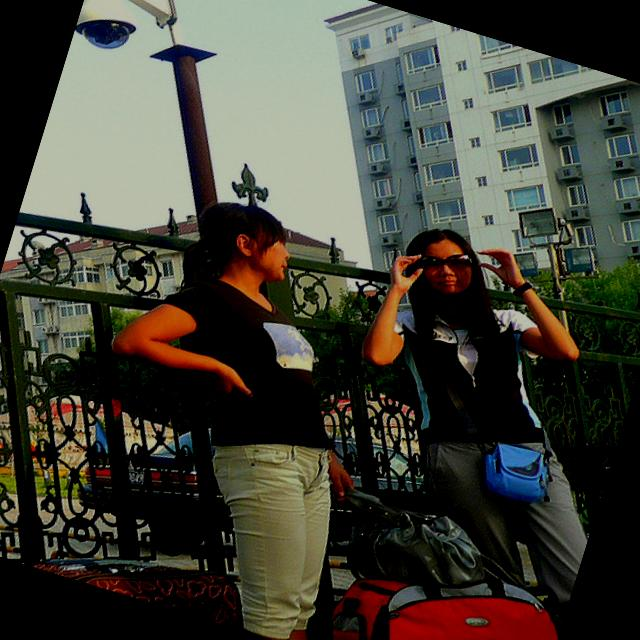Vehicle: (62, 363, 446, 618)
